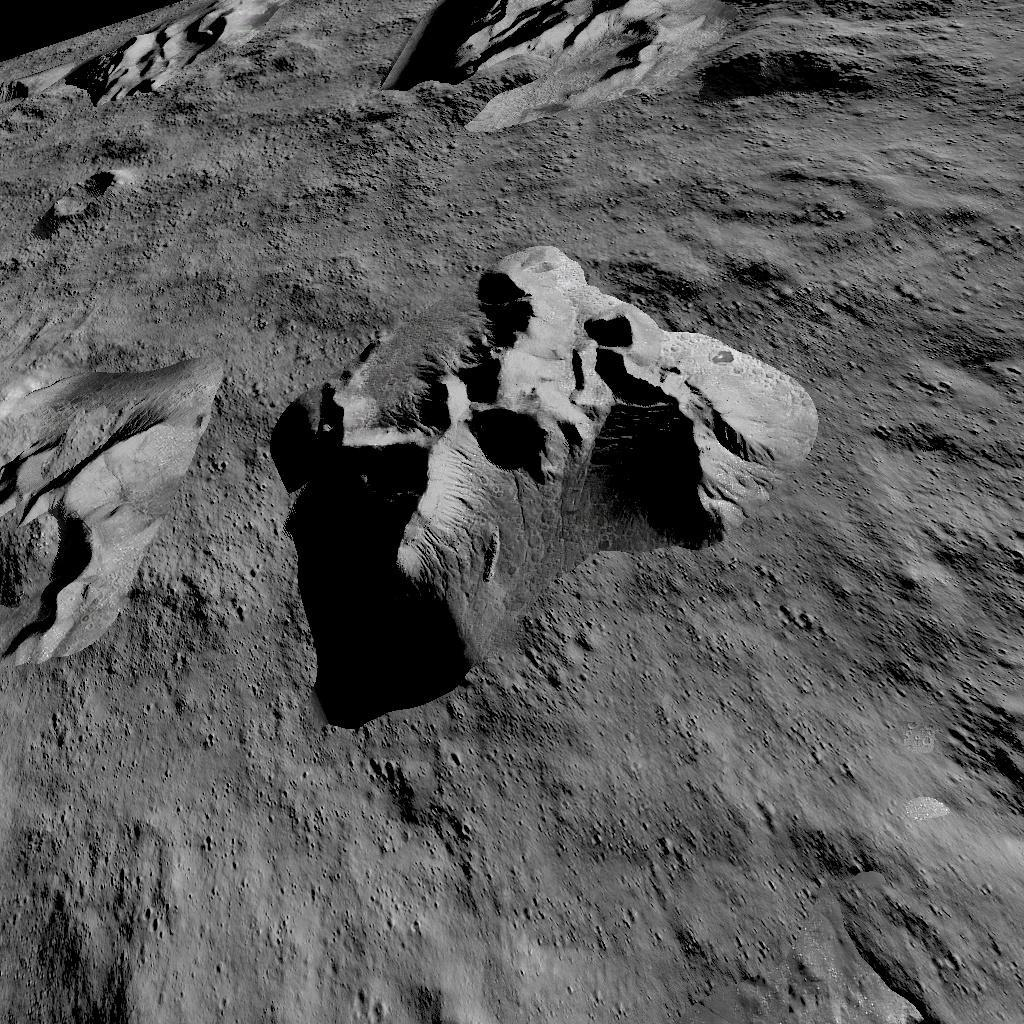Boulders: (271, 243, 825, 730), (0, 340, 220, 662), (388, 0, 706, 133), (60, 0, 242, 115), (717, 0, 870, 111)
Crater: (26, 160, 136, 243), (0, 66, 56, 136), (995, 710, 1024, 808), (877, 999, 953, 1024), (252, 44, 304, 78)
Plan surface: (5, 761, 972, 988), (845, 234, 1024, 695), (178, 152, 1016, 218), (885, 0, 1024, 133), (0, 256, 249, 322)
